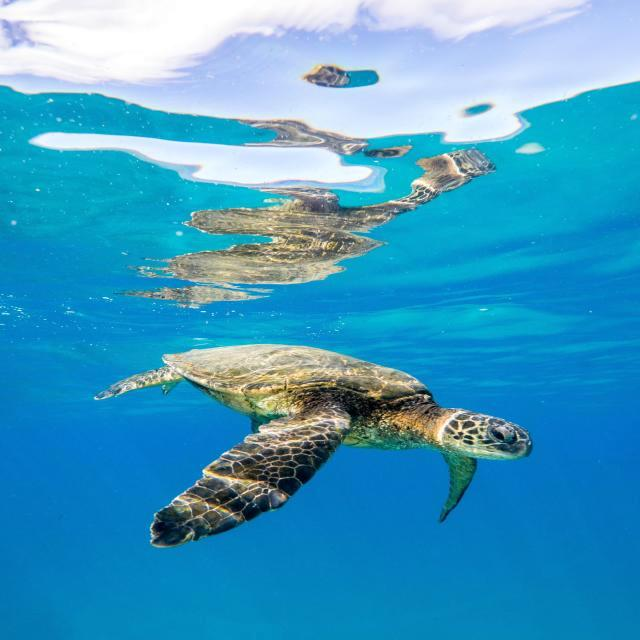Sea turtle: (87, 338, 536, 548)
